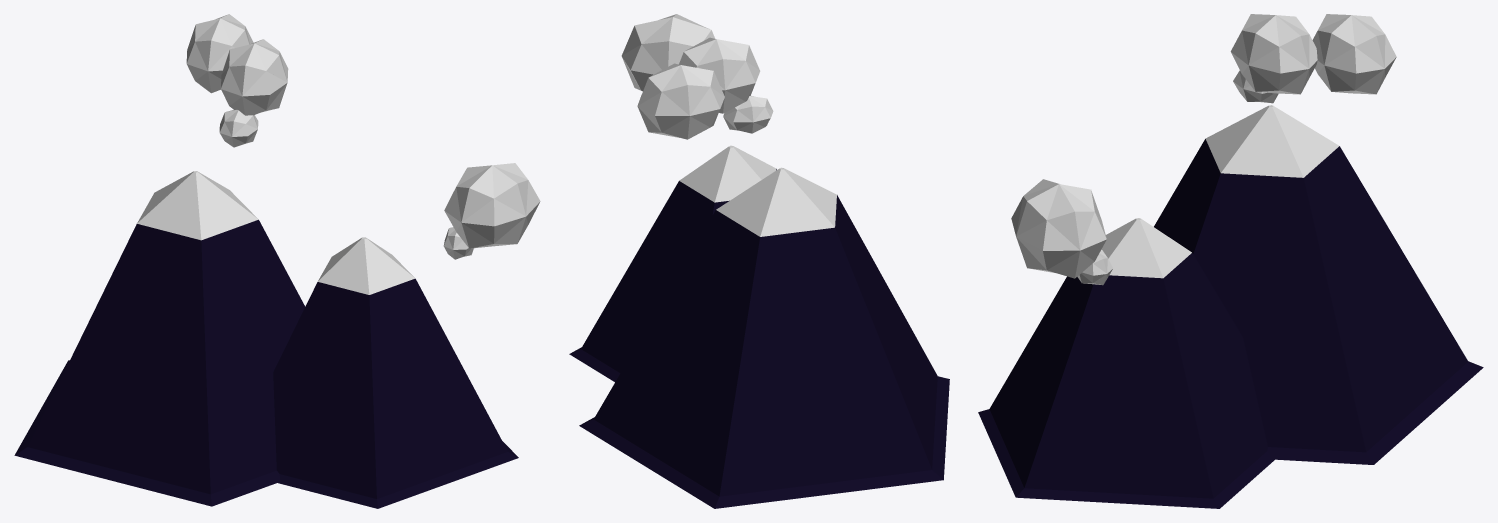
The model's file is Model_Mountain.fbx.
The picture shows the model from 3 angles, left to right: view 1: azimuth 30°, elevation 25°; view 2: azimuth 150°, elevation 25°; view 3: azimuth 270°, elevation 25°; orthographic projection. The views are drawn at different scales.
Parts seen in each view (by area): view 1: Cone005, Cone006; view 2: Cone005, Cone006, 对象327, 对象328, 对象375, 对象335, 对象374; view 3: Cone005, Cone006, 对象318, 对象317.
Part boxes in pixels (x1,y1,x2,y2): Cone005: (14,171,305,506); Cone006: (273,237,518,508); Cone005: (579,167,949,508); Cone006: (569,145,776,381); 对象327: (631,44,661,74); 对象328: (641,41,669,69); 对象375: (662,85,689,115); 对象335: (673,17,711,44); 对象374: (655,92,689,115); Cone005: (1154,105,1483,464); Cone006: (978,218,1274,508); 对象318: (1047,211,1079,249); 对象317: (1043,220,1079,250).
Size of the model in its own units: 988 by 838 by 952.
